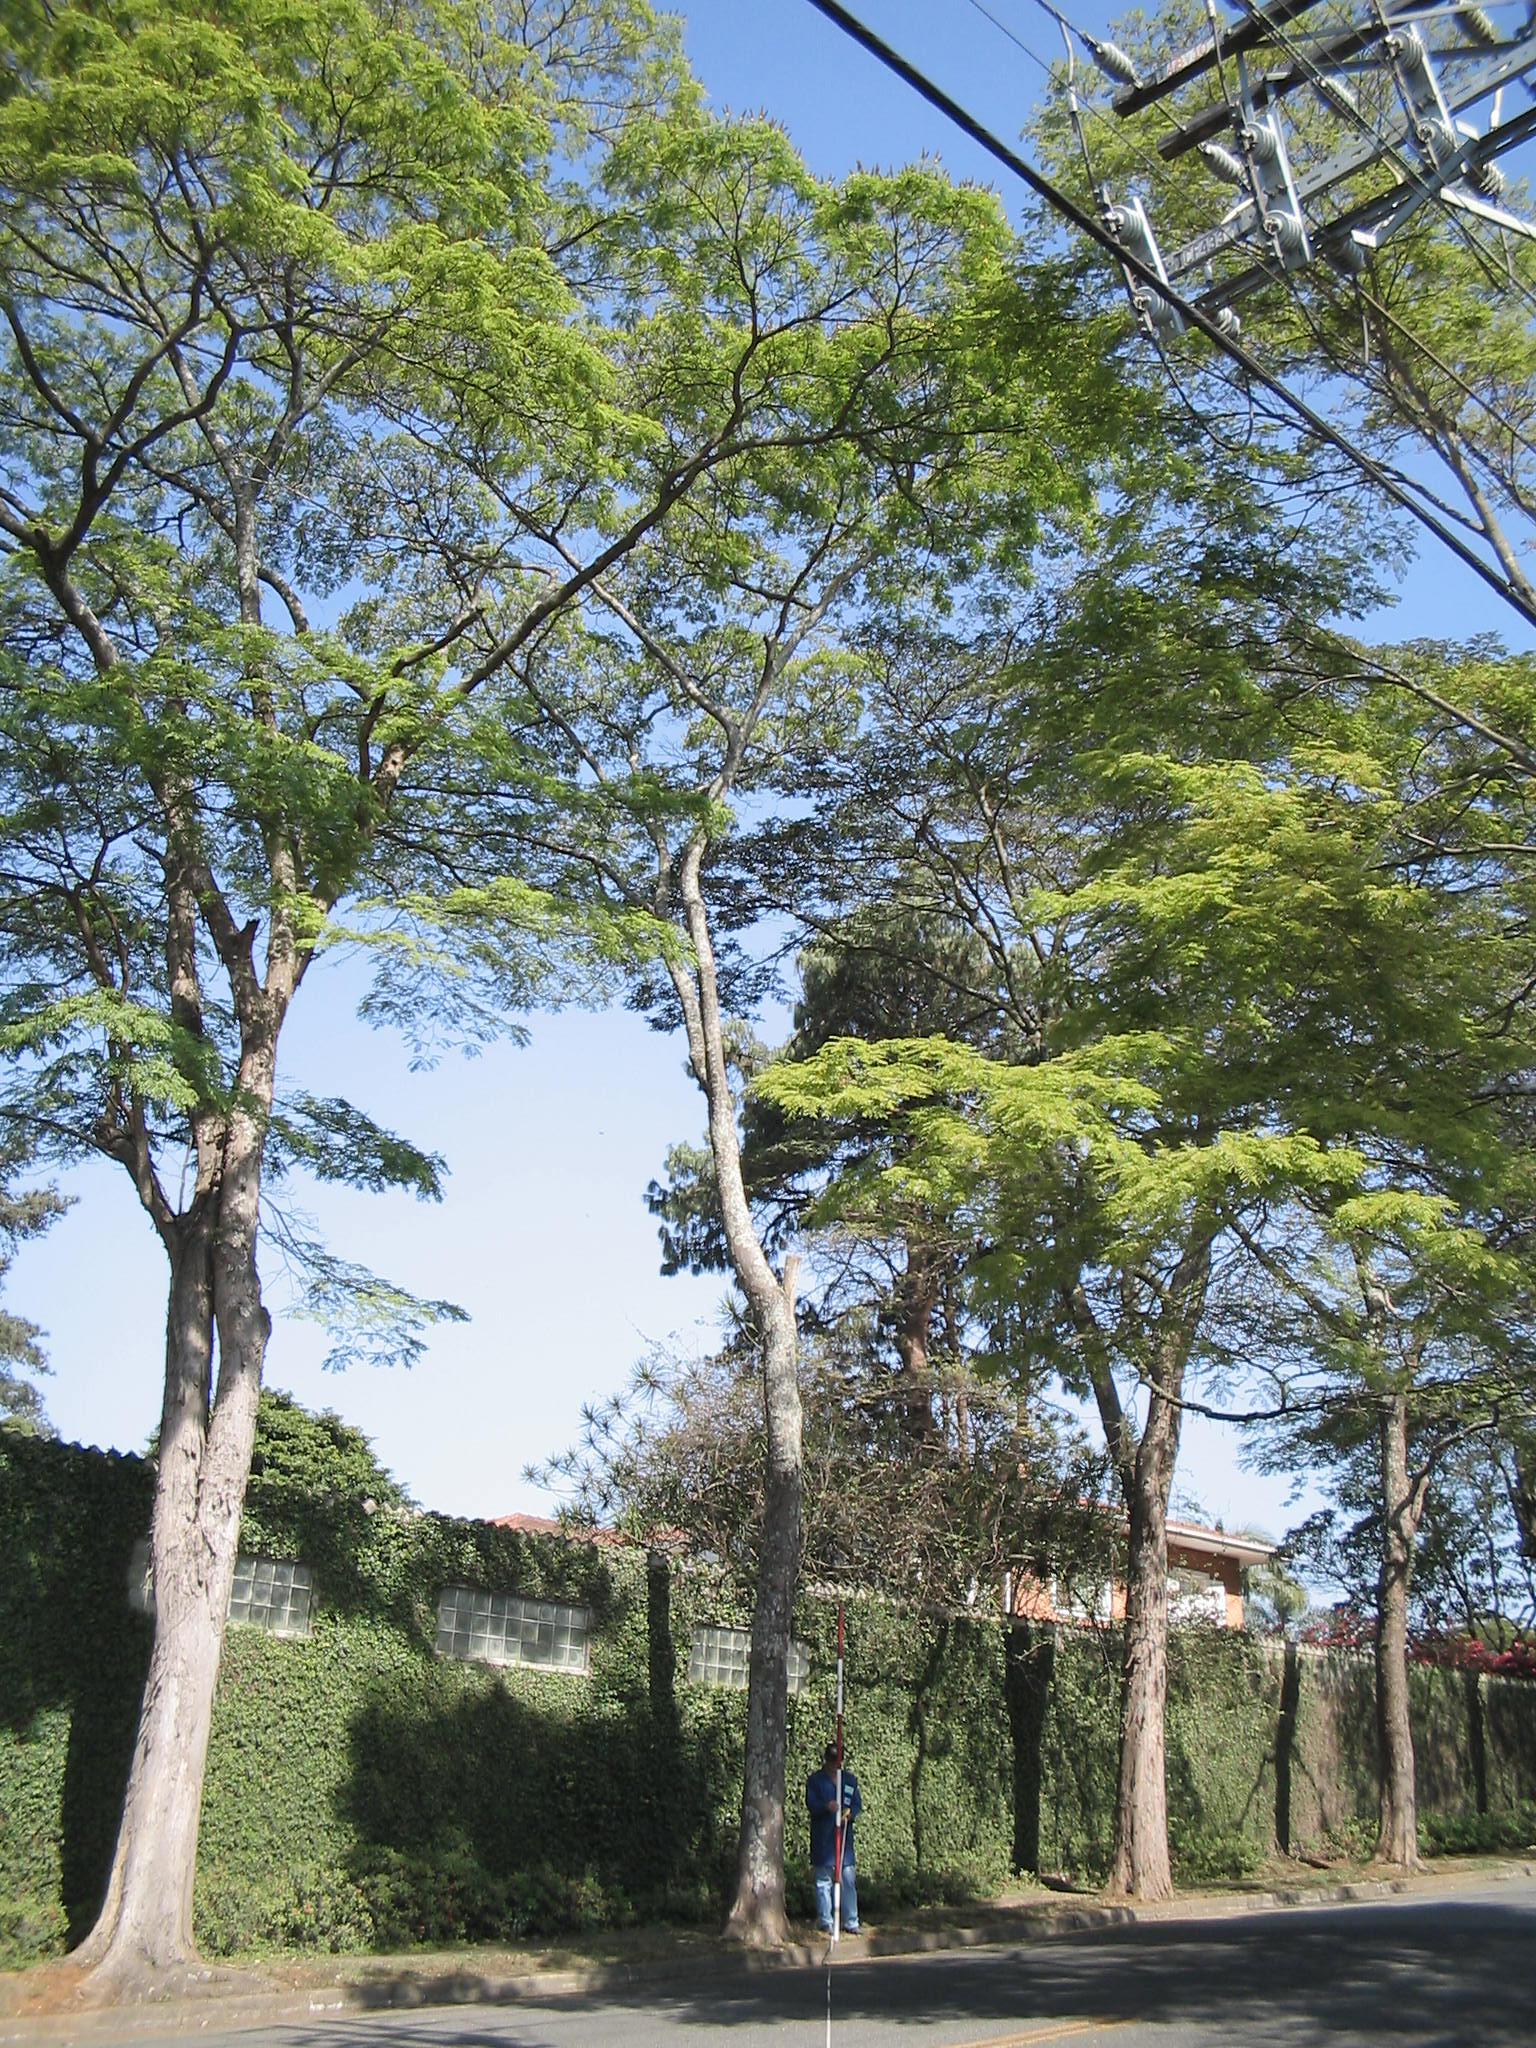crown: (24, 6, 724, 1288), (350, 18, 1100, 998), (904, 598, 1384, 1393)
stem: (48, 1514, 250, 1967), (713, 1305, 824, 1943), (1083, 1490, 1217, 1904)
stick: (816, 1593, 862, 1930)
tree: (345, 15, 1105, 1948), (11, 6, 729, 1961), (891, 598, 1392, 1909)
